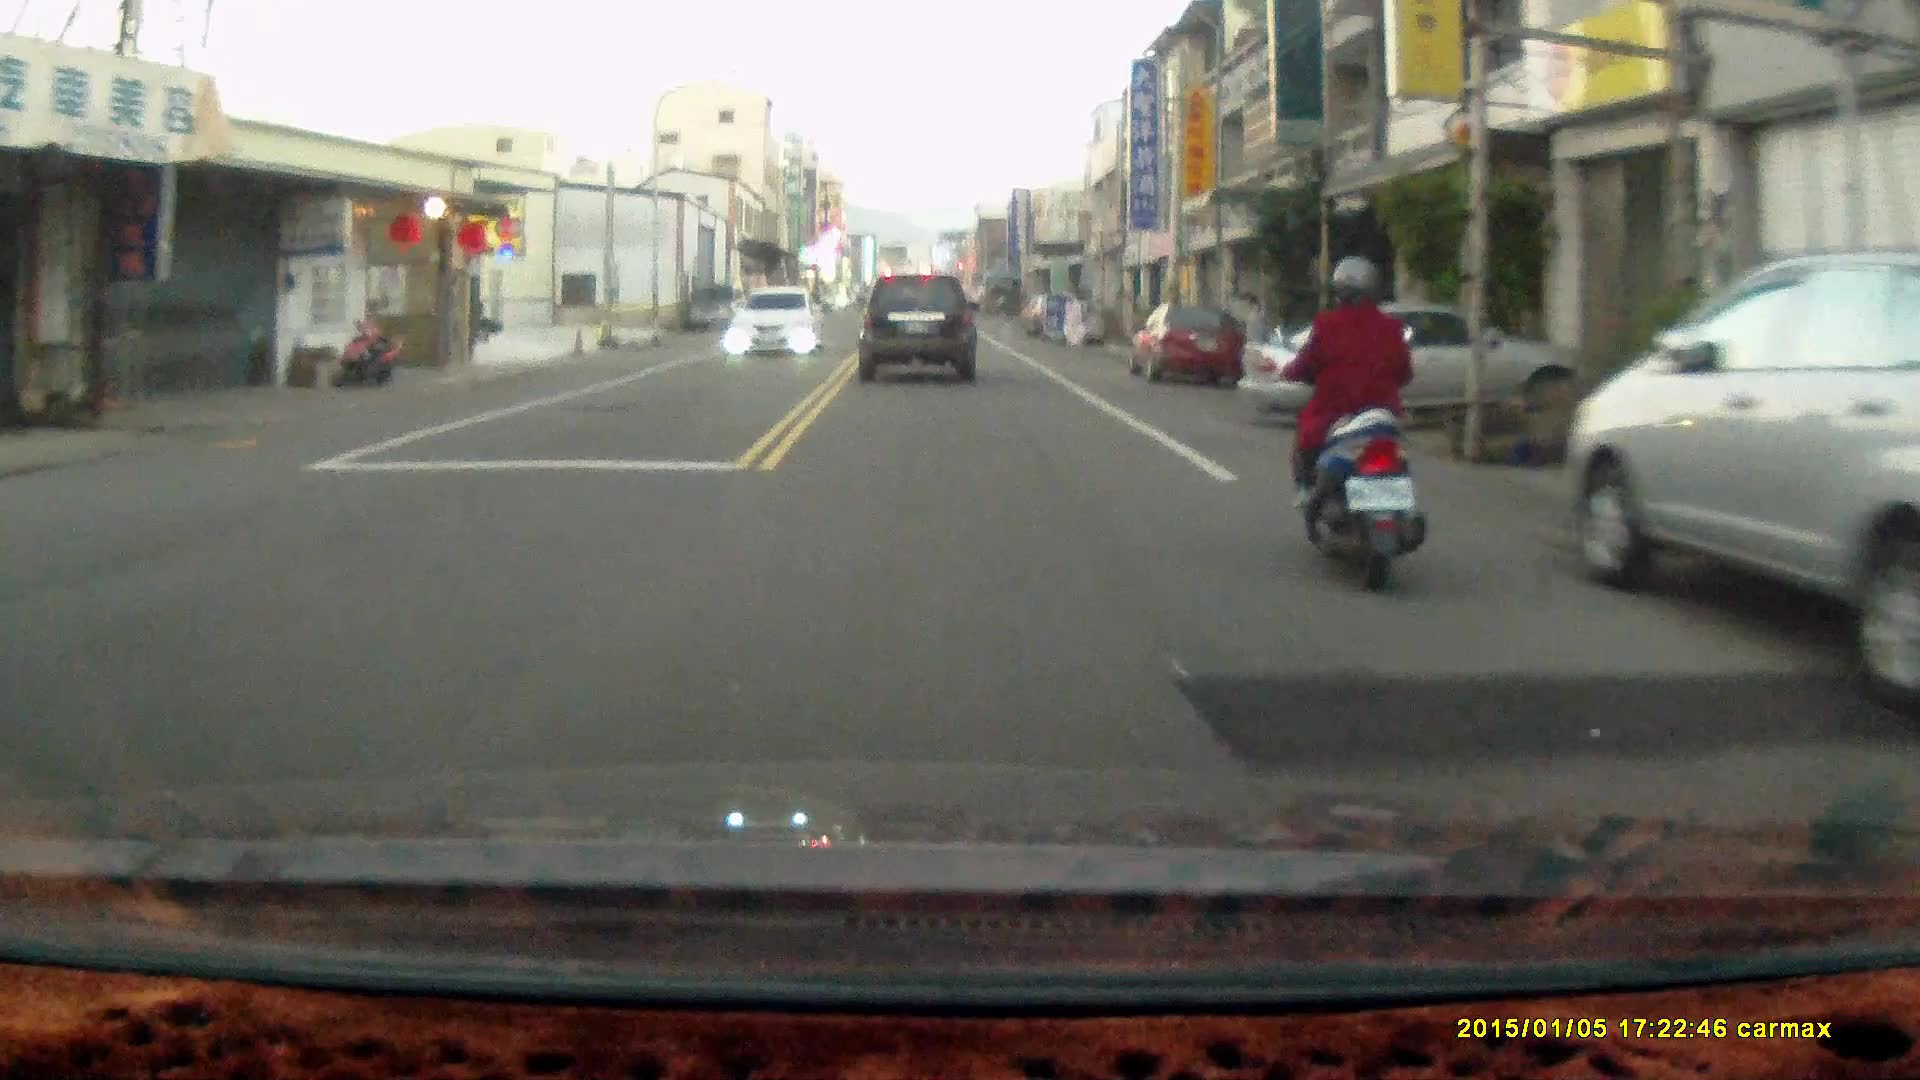rider: (1257, 249, 1430, 593)
vehicle: (1562, 250, 1917, 698), (1243, 299, 1593, 431), (857, 268, 981, 382), (1127, 301, 1251, 382), (726, 285, 825, 355), (686, 280, 748, 328)
